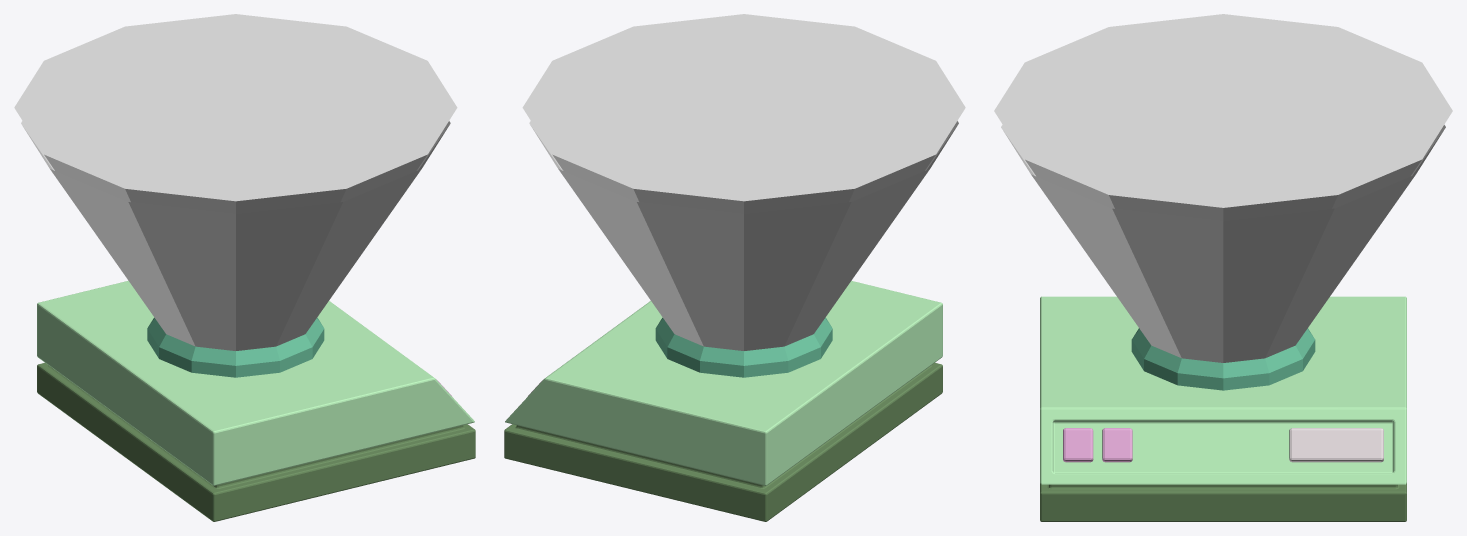
File: game console.fbx
The picture shows the model from 3 angles, left to right: view 1: azimuth 30°, elevation 25°; view 2: azimuth 150°, elevation 25°; view 3: azimuth 270°, elevation 25°; orthographic projection. The views are drawn at different scales.
Visible parts, largest first — view 1: Circle.001, Plane, Circle.002, Circle; view 2: Circle.001, Plane, Circle.002, Circle; view 3: Circle.001, Plane, Circle.002, Plane.001, Circle.
Boxes of the visible parts, x1,y1,x2,y2 form: Circle.001: (14,14,457,213); Plane: (37,281,475,521); Circle.002: (21,121,450,350); Circle: (147,317,324,377); Circle.001: (522,14,965,213); Plane: (504,281,942,521); Circle.002: (529,121,958,350); Circle: (655,317,832,377); Circle.001: (994,14,1452,221); Plane: (1040,296,1406,521); Circle.002: (1001,125,1445,362); Plane.001: (1063,428,1383,462); Circle: (1131,328,1315,390).
Size of what is drawn, in the model's own units: 500 by 403 by 500.
